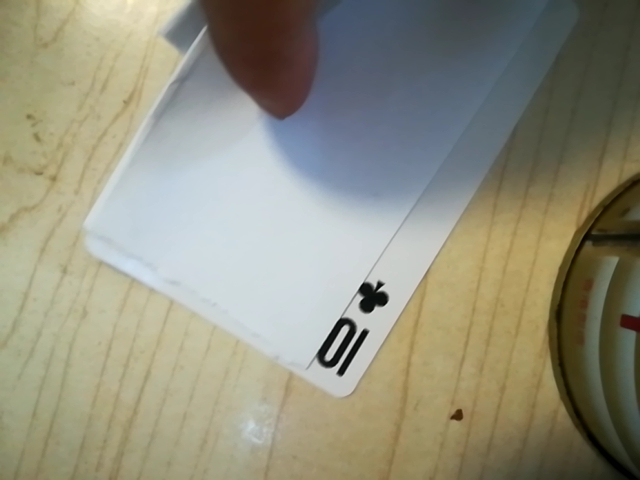mh 10: (305, 263, 396, 389)
